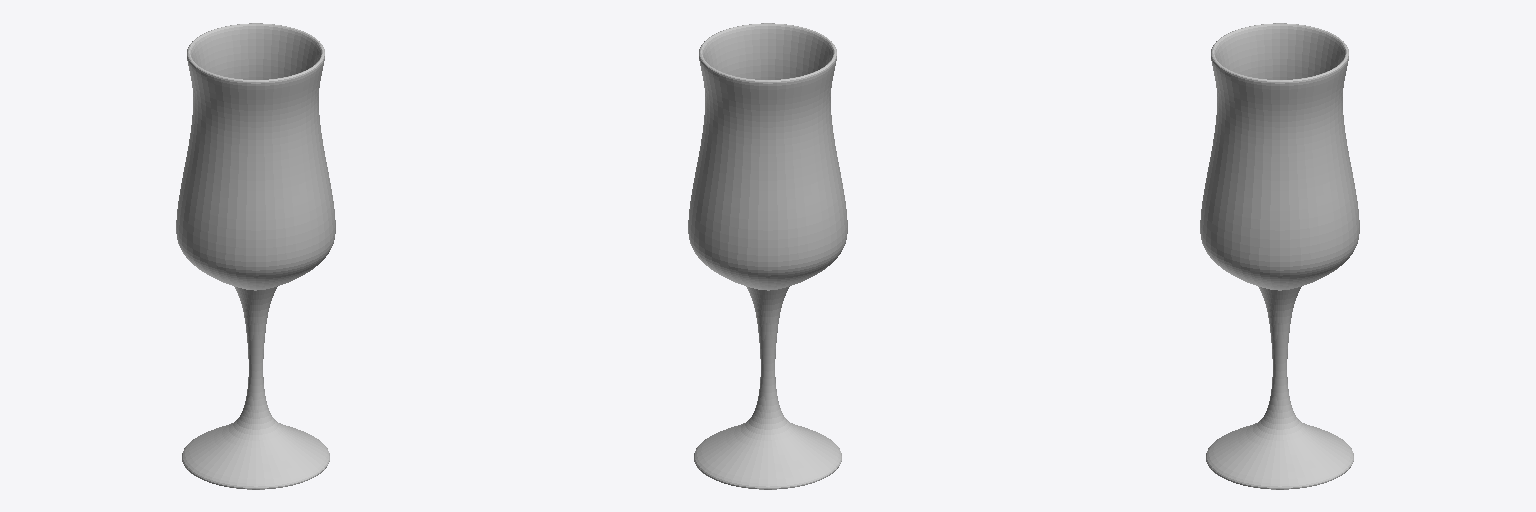
Rendered from glass3.obj.
3 views of the same model, side by side, from view 1: azimuth 30°, elevation 25°; view 2: azimuth 150°, elevation 25°; view 3: azimuth 270°, elevation 25° (orthographic).
Visible parts, largest first — view 1: 3; view 2: 3; view 3: 3.
Part boxes in pixels (x1,y1,x2,y2): 3: (176,23,335,489); 3: (688,23,847,489); 3: (1200,23,1359,489).
Size of the model in its own units: 0.6981 by 1.97 by 0.6981.